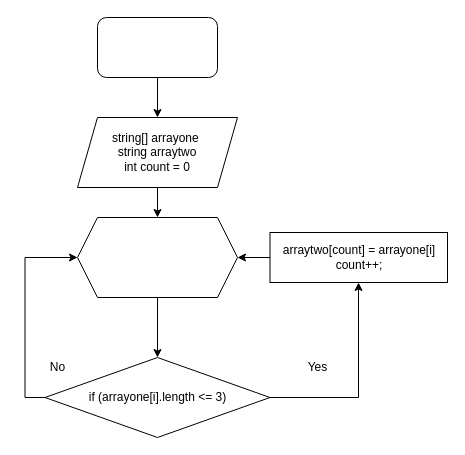
Some shapes in this 465 by 455 pixel diagram are drawn without their labels. The centre of each missing label's shape, as x and y in pixels:
"ArrayWith" belongs at point (157, 47).
"for (int i = 0; i < arrayone.length; i++)" belongs at point (157, 257).
